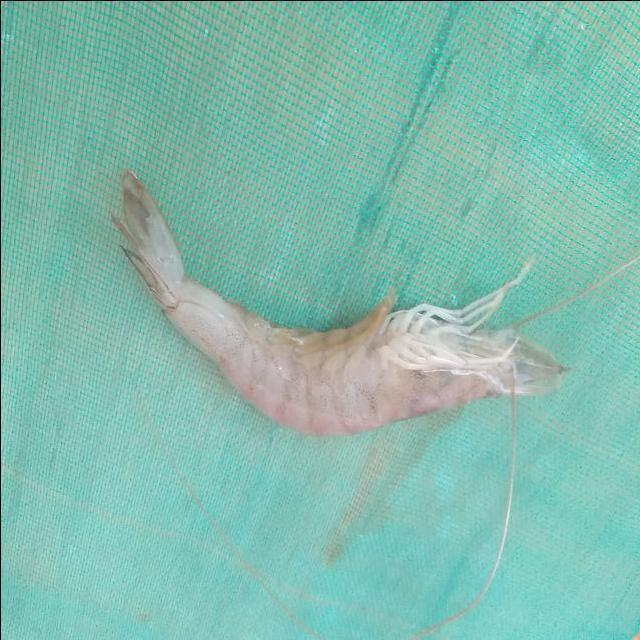shrimp: (111, 170, 566, 436)
